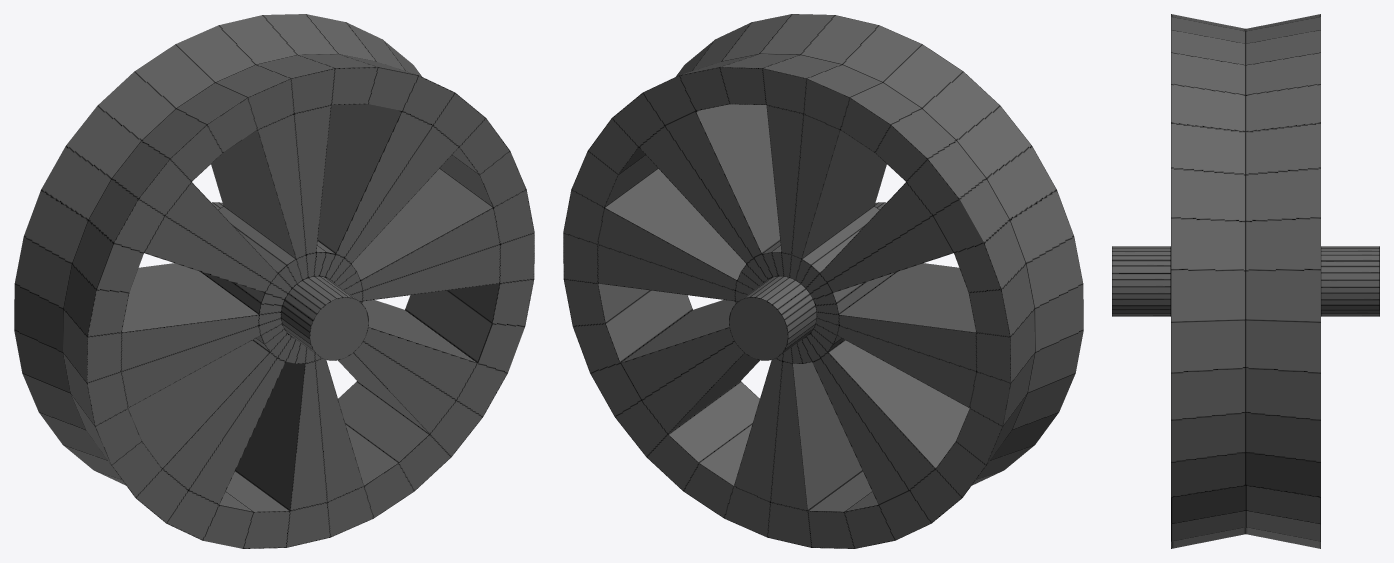
File: lift_wheel.obj
3 renders of one model, left to right at view 1: azimuth 30°, elevation 25°; view 2: azimuth 150°, elevation 25°; view 3: azimuth 270°, elevation 25°, orthographic. The views are drawn at different scales.
Visible parts, largest first — view 1: lift_wheel_Cylinder; view 2: lift_wheel_Cylinder; view 3: lift_wheel_Cylinder.
Boxes of the visible parts, left/top/right/bottom form: lift_wheel_Cylinder: left=14, top=14, right=534, bottom=548; lift_wheel_Cylinder: left=563, top=14, right=1083, bottom=548; lift_wheel_Cylinder: left=1112, top=14, right=1379, bottom=548.
Size of the model in its own units: 1.99 by 1.99 by 1.
1 material, 1 textured.
